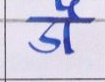ai_matra: (55, 0, 84, 18)
